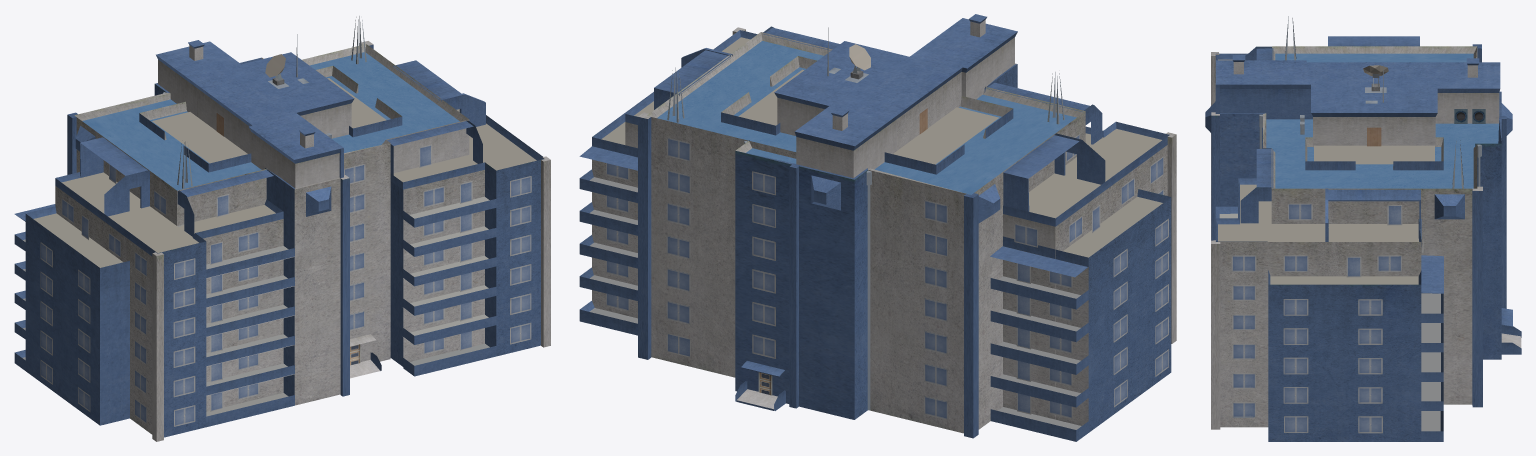
File: ORB_3_S6_Detail_2.fbx
3 views of the same model, side by side, from view 1: azimuth 30°, elevation 25°; view 2: azimuth 150°, elevation 25°; view 3: azimuth 270°, elevation 25° (orthographic). The views are drawn at different scales.
Visible parts, largest first — view 1: ORB_3_S6_Detail_2; view 2: ORB_3_S6_Detail_2; view 3: ORB_3_S6_Detail_2.
Part boxes in pixels (bbox=[...]): ORB_3_S6_Detail_2: bbox=[14, 16, 550, 441]; ORB_3_S6_Detail_2: bbox=[579, 14, 1176, 441]; ORB_3_S6_Detail_2: bbox=[1205, 16, 1521, 441].
Size of the model in its own units: 4288 by 2657 by 2603.
